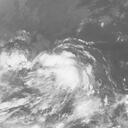cyclone: (34, 51, 92, 103)
